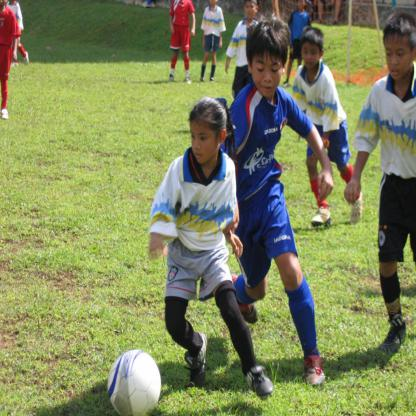face: (252, 47, 284, 98), (385, 34, 412, 80), (191, 122, 220, 164), (303, 41, 321, 70), (246, 2, 256, 19), (299, 1, 305, 10)
